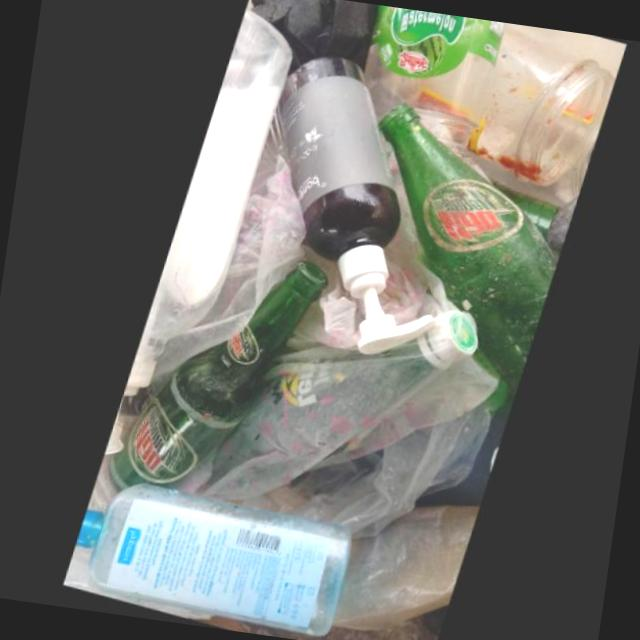chai_nhua: (102, 15, 283, 461), (269, 60, 440, 358), (75, 488, 351, 640)
chai_thuy_tinh: (171, 313, 473, 505), (370, 106, 548, 403), (107, 263, 325, 496)
hop_nhua: (460, 30, 606, 188), (355, 4, 497, 157)
